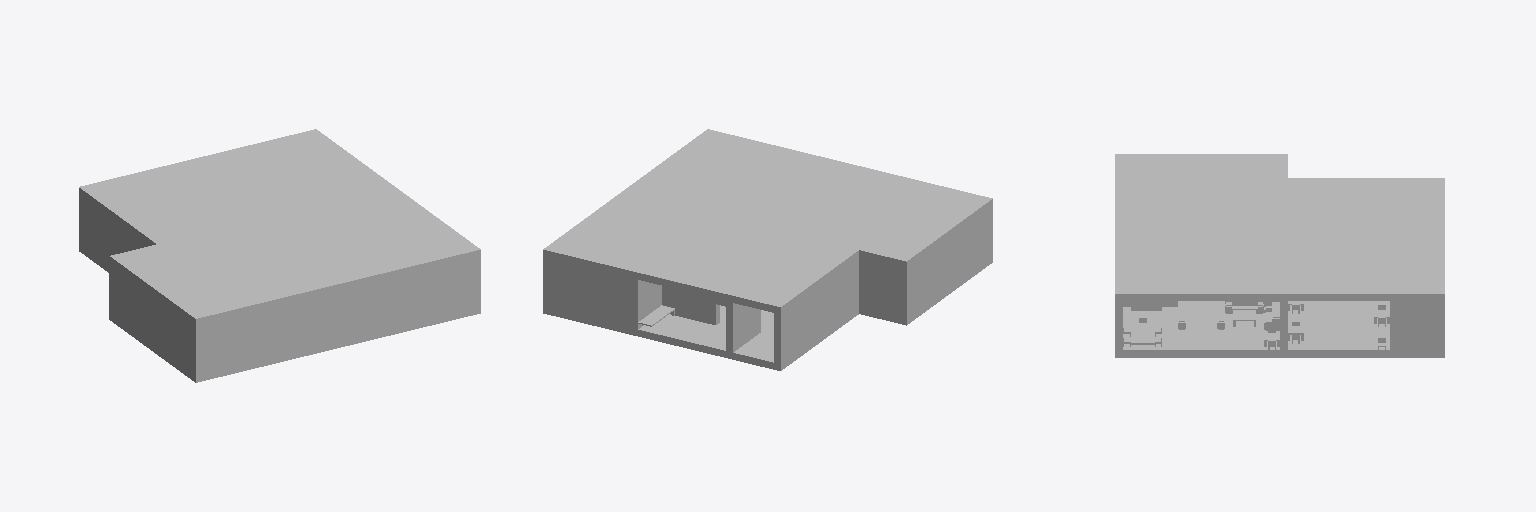
File: unionA_roof.obj
The picture shows the model from 3 angles: view 1: azimuth 30°, elevation 25°; view 2: azimuth 150°, elevation 25°; view 3: azimuth 270°, elevation 25°; orthographic projection.
Visible parts, largest first — view 1: object 1; view 2: object 1; view 3: object 1.
Boxes of the visible parts, x1=… form: object 1: x1=79, y1=129, x2=480, y2=382; object 1: x1=543, y1=129, x2=992, y2=370; object 1: x1=1115, y1=154, x2=1444, y2=357.
Bounding box in the file's own units: 25.2 × 5.4 × 25.2.